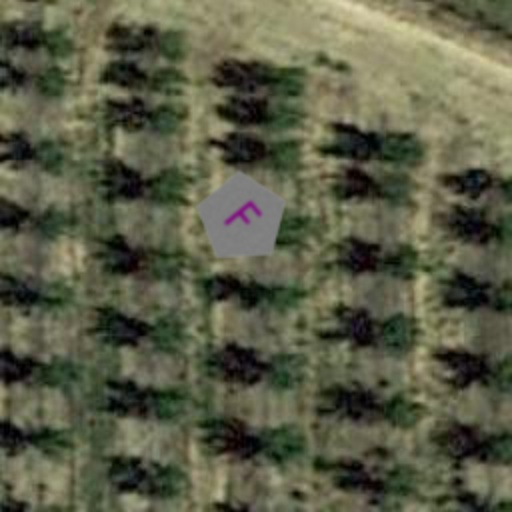pentagon: (174, 150, 310, 286)
